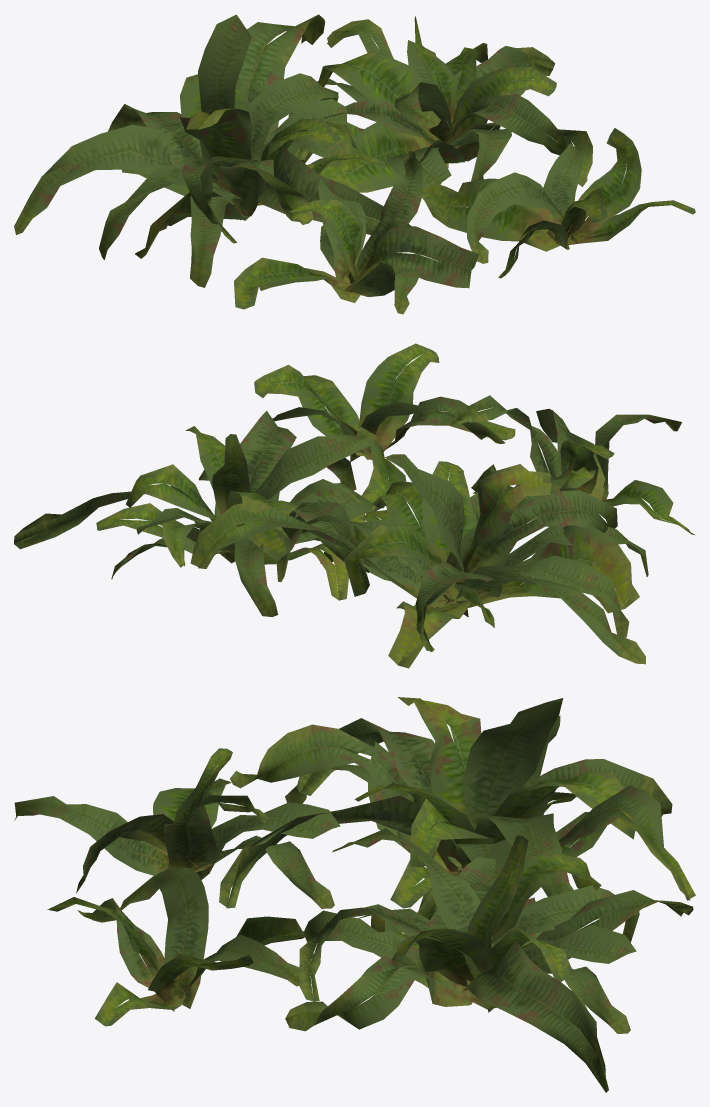
The model's file is veg_fern_02.glb.
3 views of the same model, one above another, from view 1: azimuth 30°, elevation 25°; view 2: azimuth 150°, elevation 25°; view 3: azimuth 270°, elevation 25° (orthographic). The views are drawn at different scales.
Parts seen in each view (by area): view 1: fern_02_b, fern_02_c, fern_02_d, fern_02_a; view 2: fern_02_b, fern_02_c, fern_02_d, fern_02_a; view 3: fern_02_b, fern_02_c, fern_02_a, fern_02_d.
Boxes of the visible parts, left/top/right/bottom form: fern_02_b: left=14, top=14, right=411, bottom=287; fern_02_c: left=288, top=16, right=592, bottom=192; fern_02_d: left=421, top=128, right=695, bottom=278; fern_02_a: left=234, top=150, right=479, bottom=314; fern_02_b: left=190, top=454, right=648, bottom=668; fern_02_c: left=14, top=411, right=375, bottom=616; fern_02_d: left=254, top=343, right=515, bottom=513; fern_02_a: left=451, top=395, right=695, bottom=535; fern_02_b: left=219, top=697, right=695, bottom=908; fern_02_c: left=285, top=828, right=693, bottom=1092; fern_02_a: left=14, top=748, right=340, bottom=908; fern_02_d: left=47, top=867, right=304, bottom=1026.
Bounding box in the file's own units: 2.75 × 0.7669 × 2.3.
1 material, 1 textured.
